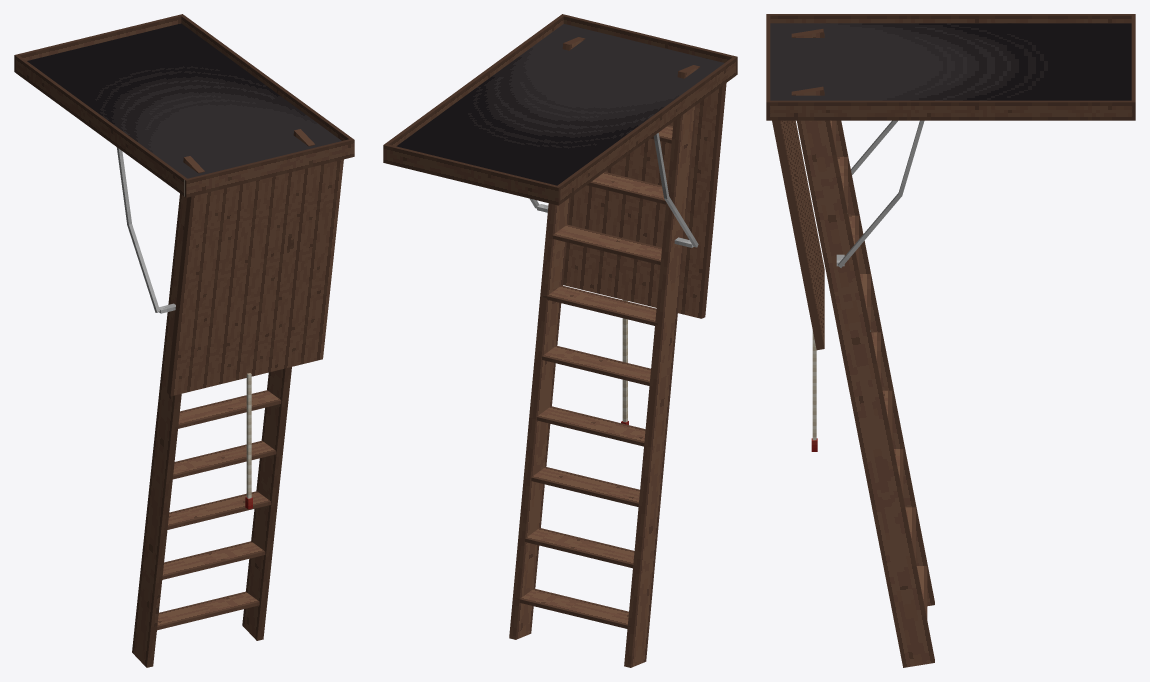
The model's file is atticlatter.gltf.
3 views of the same model, side by side, from view 1: azimuth 30°, elevation 25°; view 2: azimuth 150°, elevation 25°; view 3: azimuth 270°, elevation 25° (orthographic). The views are drawn at different scales.
Parts seen in each view (by area): view 1: ceilingpanel, ceilingref, rightSupport, leftSupport, leftSide, bottomSide, rightSide, step1, step2, step4, step5, step3 (+2 smaller); view 2: ceilingref, ceilingpanel, rightSupport, leftSupport, leftSide, topSide, rightSide, step6, step1, step7, step2, step4 (+4 smaller); view 3: ceilingref, leftSupport, rightSide, ceilingpanel, rightSupport, leftSide.
Part boxes in pixels (x1,y1,x2,y2): ceilingpanel: [167, 159, 343, 396]; ceilingref: [27, 23, 341, 178]; rightSupport: [132, 156, 204, 667]; leftSupport: [242, 129, 315, 640]; leftSide: [16, 55, 187, 196]; bottomSide: [184, 138, 354, 197]; rightSide: [181, 15, 352, 140]; step1: [157, 591, 259, 630]; step2: [162, 541, 265, 579]; step4: [172, 440, 276, 479]; step5: [178, 390, 281, 428]; step3: [167, 491, 270, 529]; ceilingref: [396, 24, 724, 185]; ceilingpanel: [563, 83, 726, 318]; rightSupport: [624, 65, 699, 667]; leftSupport: [509, 37, 585, 639]; leftSide: [557, 57, 735, 203]; topSide: [383, 144, 560, 205]; rightSide: [385, 15, 563, 146]; step6: [543, 285, 657, 325]; step1: [515, 588, 630, 628]; step7: [552, 224, 661, 264]; step2: [525, 528, 634, 568]; step4: [536, 406, 645, 446]; ceilingref: [770, 23, 1131, 100]; leftSupport: [791, 86, 934, 667]; rightSide: [770, 100, 1132, 120]; ceilingpanel: [772, 120, 824, 350]; rightSupport: [791, 29, 934, 606]; leftSide: [770, 14, 1131, 23].
Size of the model in its own units: 3.24 by 9.93 by 5.74.
Materials: 1 (1 with a texture image).
